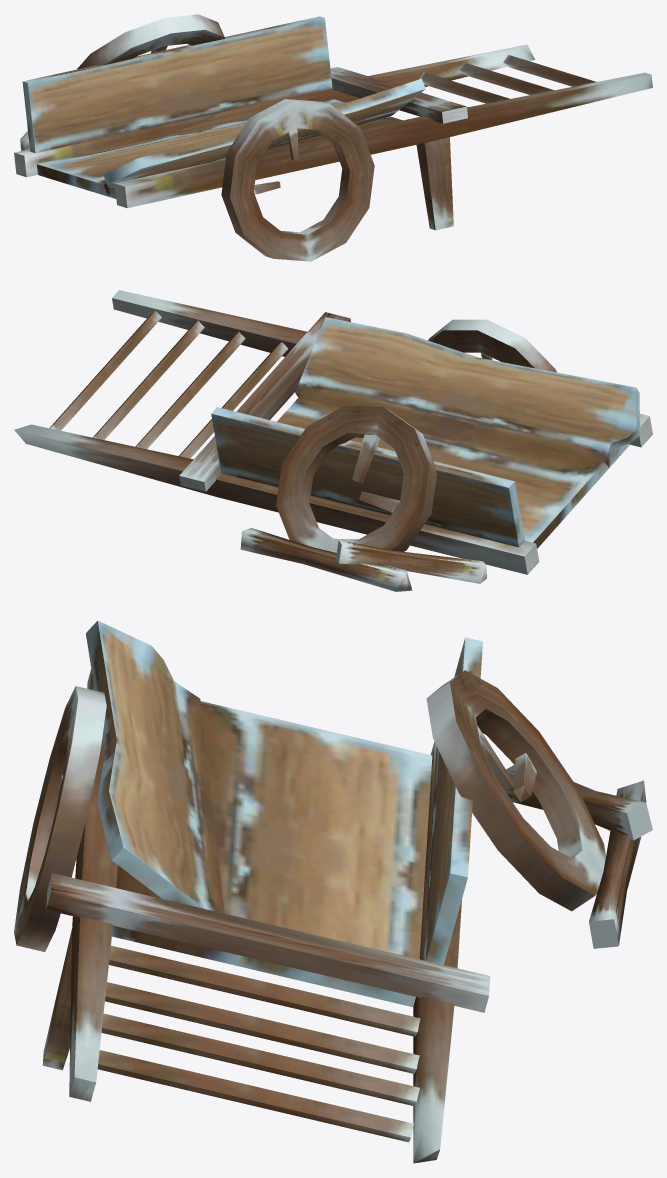
Rendered from h5_xue_poche_a.FBX.
The picture shows the model from 3 angles, top to bottom: view 1: azimuth 30°, elevation 25°; view 2: azimuth 150°, elevation 25°; view 3: azimuth 270°, elevation 25°; orthographic projection. The views are drawn at different scales.
Visible parts, largest first — view 1: h5_xue_poche_a; view 2: h5_xue_poche_a; view 3: h5_xue_poche_a.
Part boxes in pixels (x1=…): h5_xue_poche_a: x1=14, y1=14, x2=652, y2=261; h5_xue_poche_a: x1=14, y1=290, x2=652, y2=591; h5_xue_poche_a: x1=14, y1=620, x2=652, y2=1163.
Size of the model in its own units: 3.22 by 0.9339 by 2.1.
